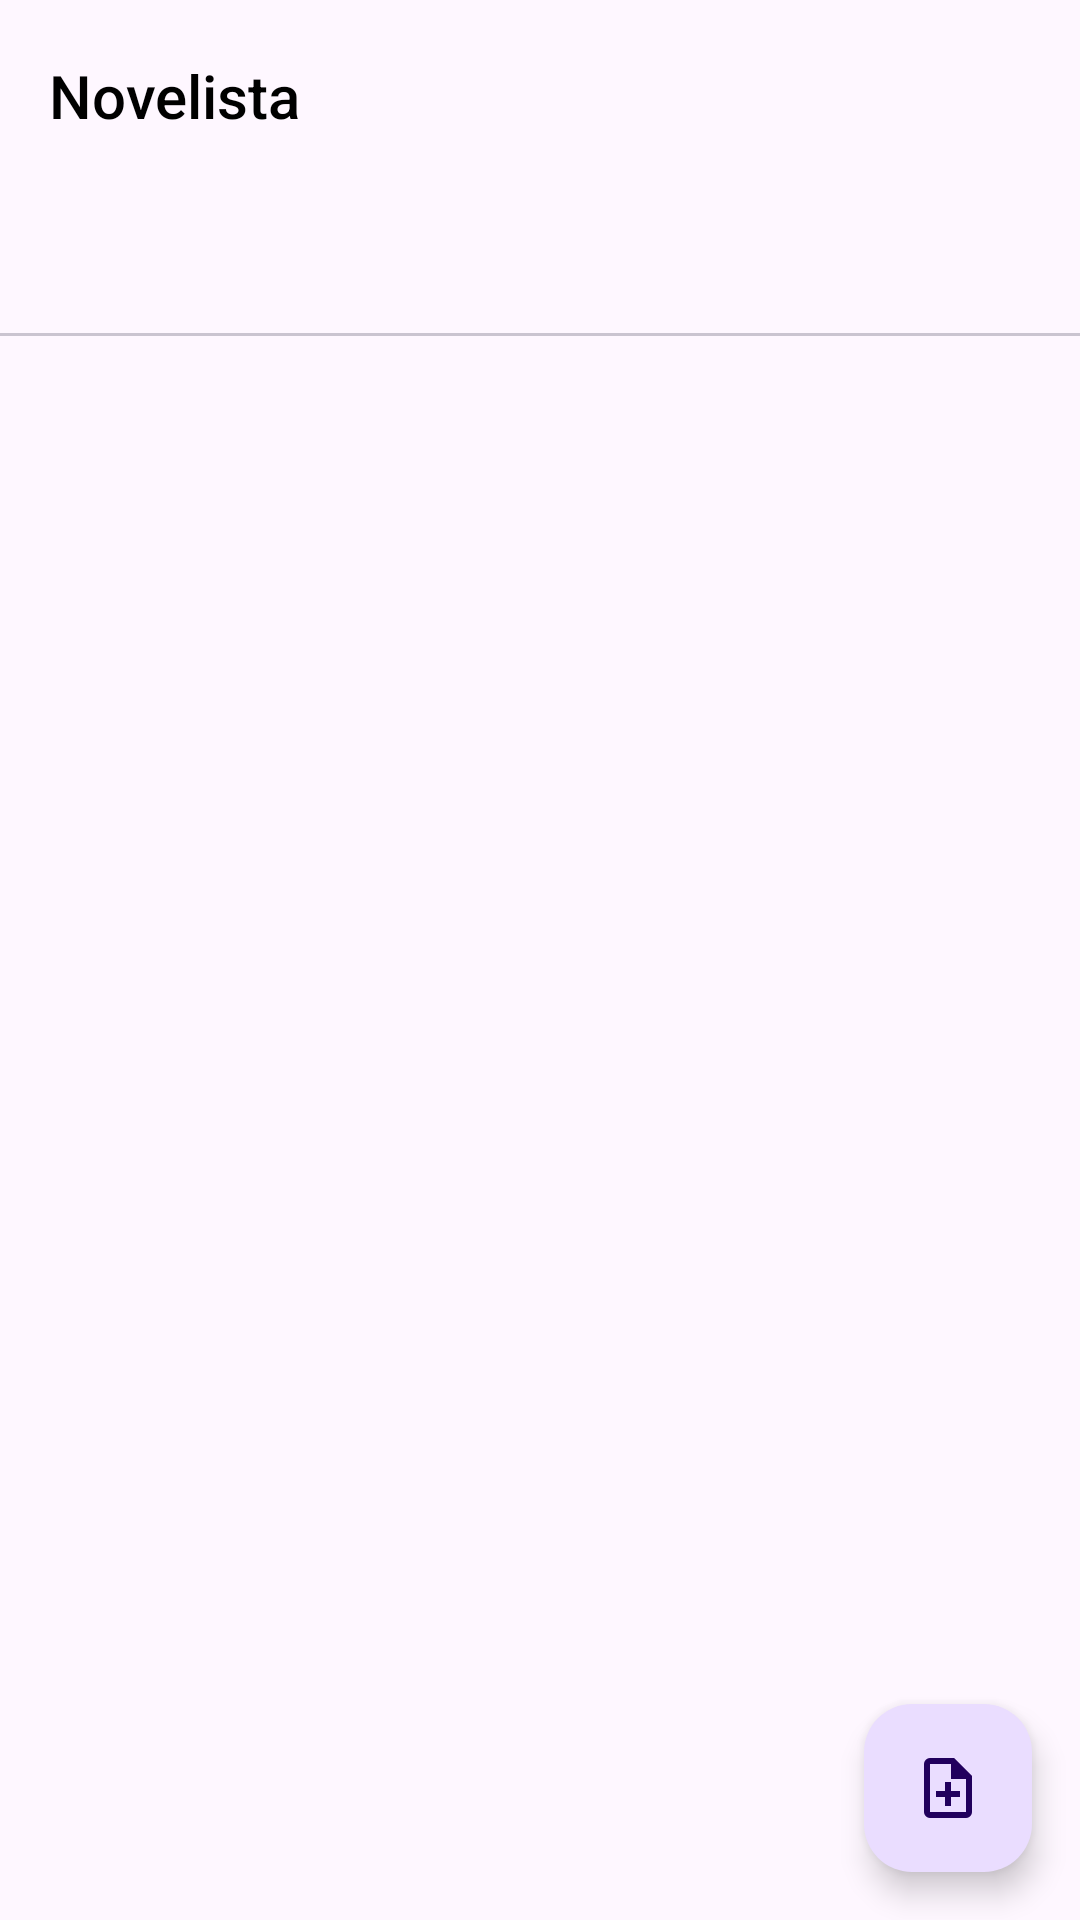

Icons on this 1080*1920 Android screen, each with the point to tap as (x=x, y=y):
note add: (x=948, y=1788)
